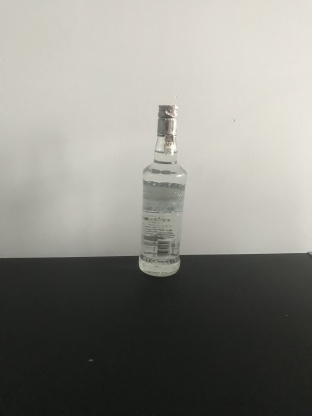nakretka: (155, 102, 179, 137)
